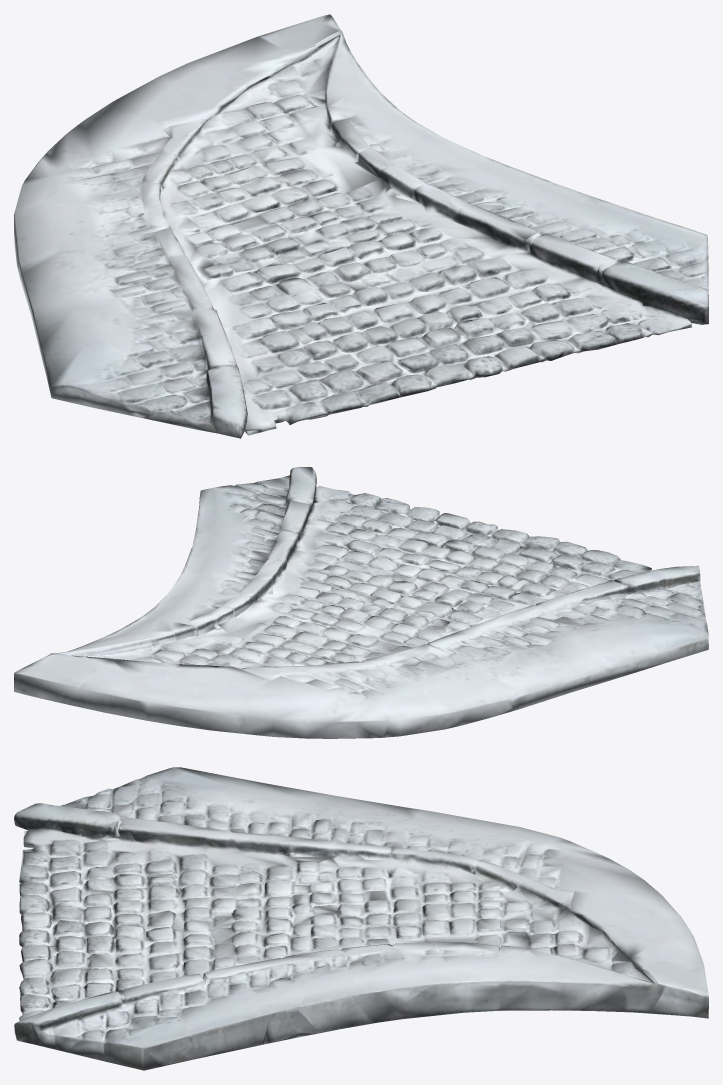
The model's file is ground_far.glb.
3 views of the same model, one above another, from view 1: azimuth 30°, elevation 25°; view 2: azimuth 150°, elevation 25°; view 3: azimuth 270°, elevation 25° (orthographic). The views are drawn at different scales.
Visible parts, largest first — view 1: tripo_node_d4548f71-e012-495c-bf5d-c968ed5bcc0e; view 2: tripo_node_d4548f71-e012-495c-bf5d-c968ed5bcc0e; view 3: tripo_node_d4548f71-e012-495c-bf5d-c968ed5bcc0e.
Part boxes in pixels (x1=…): tripo_node_d4548f71-e012-495c-bf5d-c968ed5bcc0e: x1=14, y1=14, x2=708, y2=438; tripo_node_d4548f71-e012-495c-bf5d-c968ed5bcc0e: x1=14, y1=467, x2=708, y2=738; tripo_node_d4548f71-e012-495c-bf5d-c968ed5bcc0e: x1=14, y1=767, x2=708, y2=1070.
Bounding box in the file's own units: 0.97 × 0.077 × 0.9796.
1 material, 1 textured.
